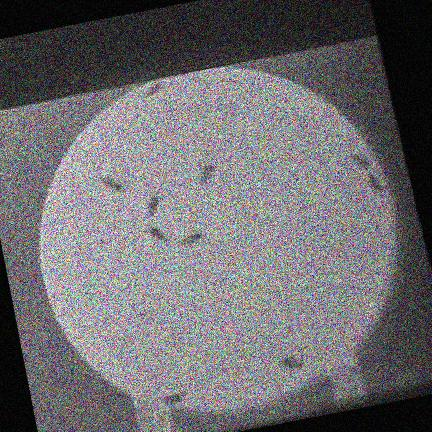fly: (98, 175, 126, 192), (148, 223, 169, 243), (281, 352, 305, 368), (181, 230, 203, 246), (147, 191, 159, 215), (199, 163, 215, 181), (143, 81, 162, 96), (351, 152, 370, 167), (369, 171, 383, 191), (164, 391, 185, 403)
